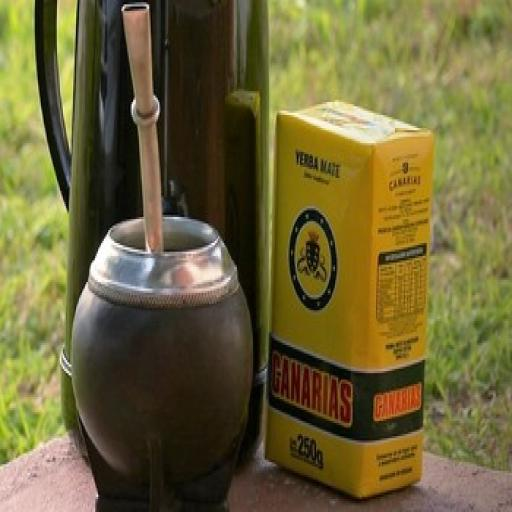mate: (72, 217, 252, 510)
termo: (148, 0, 272, 460), (34, 0, 140, 432)
